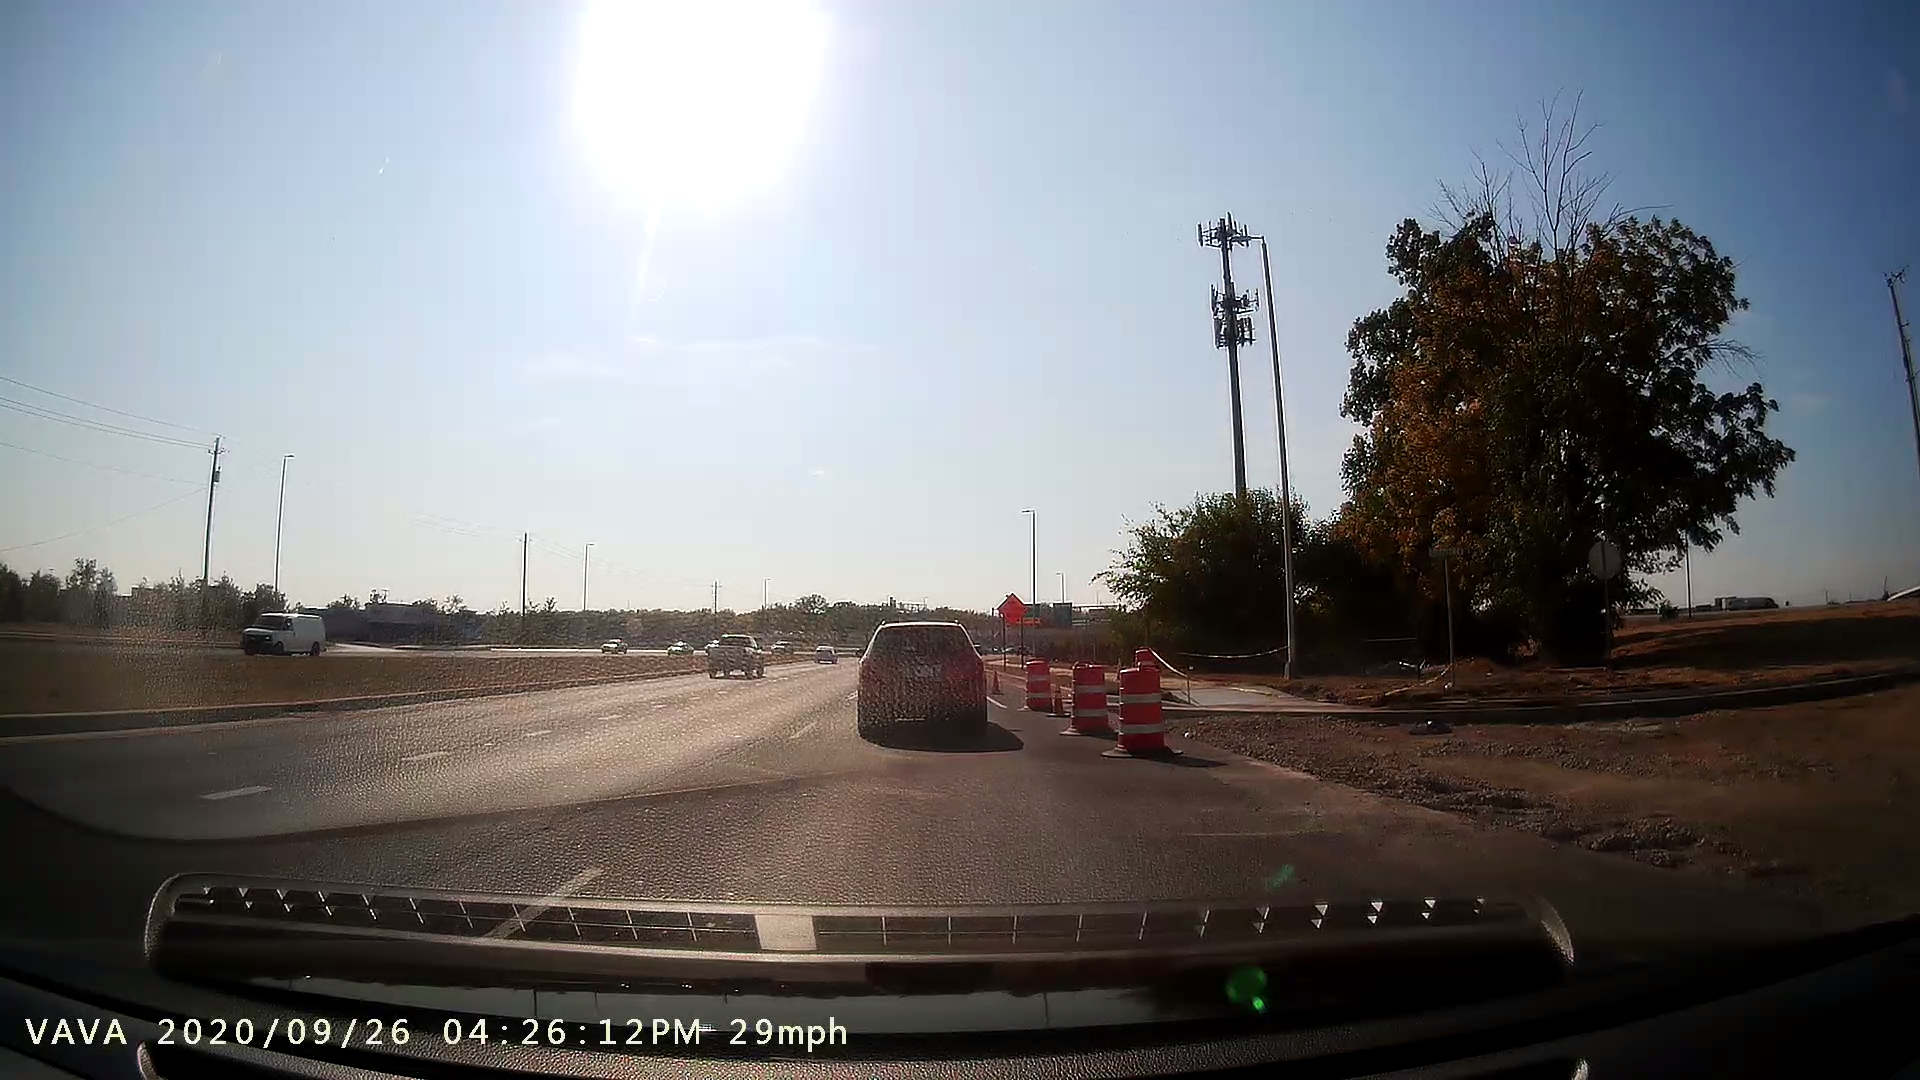const_barrel: (1110, 670, 1180, 765), (1011, 638, 1048, 717)
